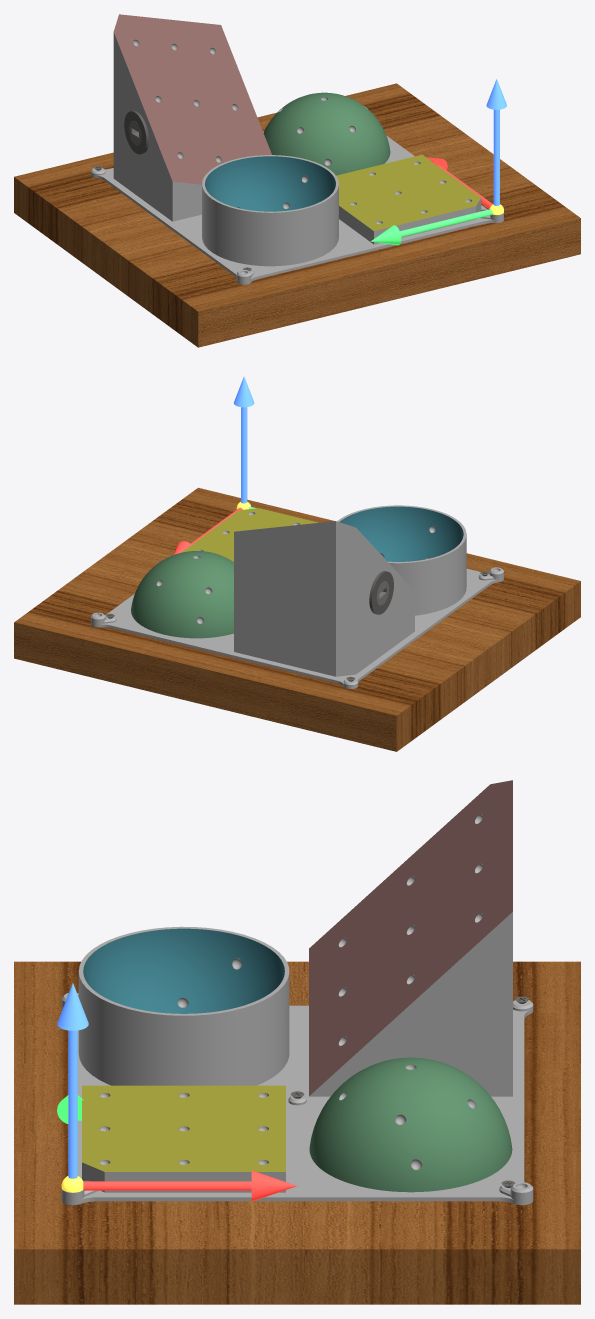
Rendered from artifact-triad.gltf.
3 renders of one model, top to bottom at view 1: azimuth 30°, elevation 25°; view 2: azimuth 150°, elevation 25°; view 3: azimuth 270°, elevation 25°, orthographic. The views are drawn at different scales.
Parts seen in each view (by area): view 1: Artefact_2_unione_corpi-1, Artefact_0_base-1, triad-z, triad-y, Adattatore_ArUco_femmina-1; view 2: Artefact_0_base-1, Artefact_2_unione_corpi-1, triad-z, Adattatore_ArUco_femmina-1; view 3: Artefact_2_unione_corpi-1, Artefact_0_base-1, triad-x, triad-z.
Boxes of the visible parts, x1=… form: Artefact_2_unione_corpi-1: x1=91, y1=14, x2=503, y2=284; Artefact_0_base-1: x1=14, y1=83, x2=580, y2=347; triad-z: x1=486, y1=79, x2=506, y2=205; triad-y: x1=371, y1=209, x2=492, y2=245; Adattatore_ArUco_femmina-1: x1=124, y1=110, x2=148, y2=154; Artefact_0_base-1: x1=14, y1=487, x2=580, y2=751; Artefact_2_unione_corpi-1: x1=91, y1=505, x2=503, y2=688; triad-z: x1=234, y1=376, x2=254, y2=503; Adattatore_ArUco_femmina-1: x1=369, y1=571, x2=393, y2=614; Artefact_2_unione_corpi-1: x1=61, y1=780, x2=533, y2=1205; Artefact_0_base-1: x1=14, y1=961, x2=580, y2=1304; triad-x: x1=83, y1=1170, x2=296, y2=1201; triad-z: x1=57, y1=983, x2=88, y2=1178.
Size of the model in its own units: 0.3 by 0.1457 by 0.25.
Materials: 13 (1 with a texture image).
